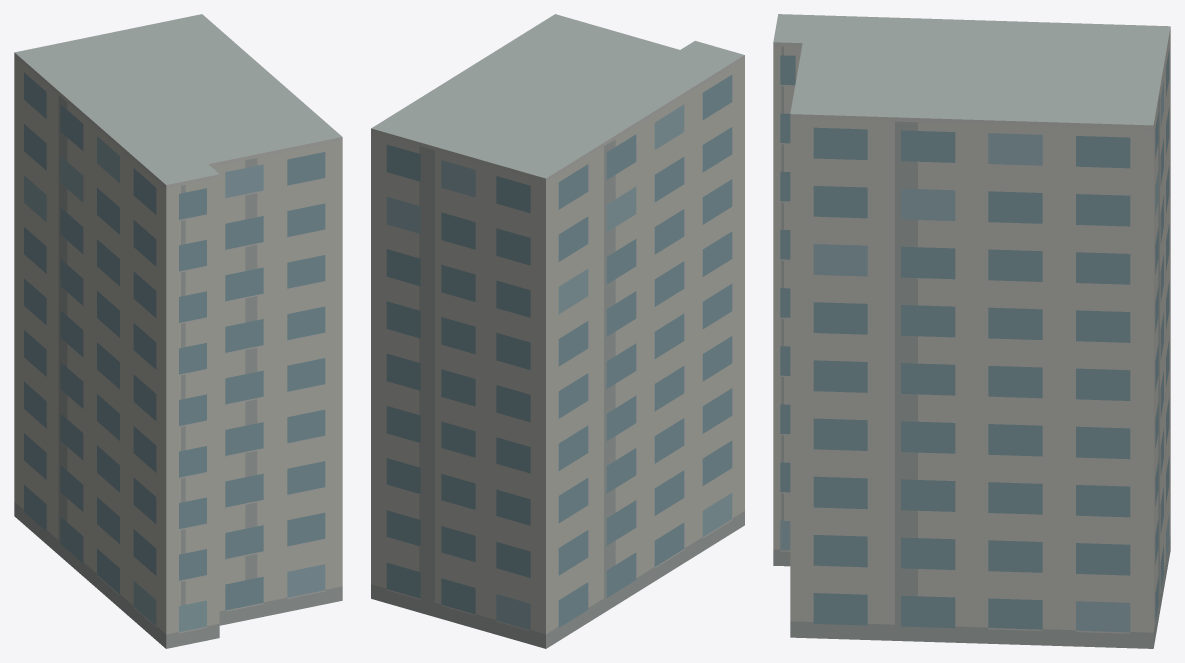
The model's file is residential-de7bd8a8-0d47-485f-a286-055dd686cb0f.glb.
3 views of the same model, side by side, from view 1: azimuth 30°, elevation 25°; view 2: azimuth 150°, elevation 25°; view 3: azimuth 270°, elevation 25° (orthographic). The views are drawn at different scales.
Parts seen in each view (by area): view 1: residential-de7bd8a8-0d47-485f-a286-055dd686cb0f.tmp; view 2: residential-de7bd8a8-0d47-485f-a286-055dd686cb0f.tmp; view 3: residential-de7bd8a8-0d47-485f-a286-055dd686cb0f.tmp.
Boxes of the visible parts, x1,y1,x2,y2 form: residential-de7bd8a8-0d47-485f-a286-055dd686cb0f.tmp: (14, 14, 342, 648); residential-de7bd8a8-0d47-485f-a286-055dd686cb0f.tmp: (371, 14, 744, 648); residential-de7bd8a8-0d47-485f-a286-055dd686cb0f.tmp: (773, 14, 1170, 648).
Size of the model in its own units: 13.7 by 30 by 20.65.
